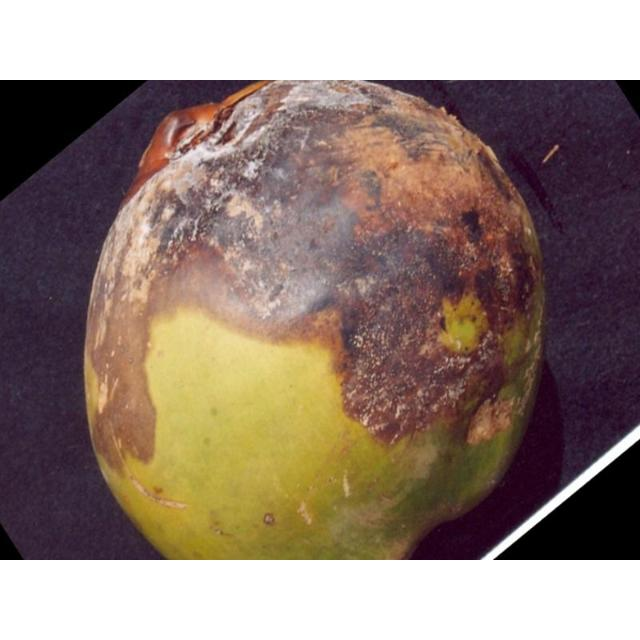damaged: (82, 80, 548, 559)
